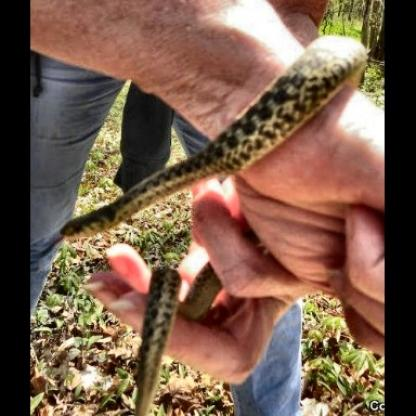Snake: (55, 36, 380, 242)
